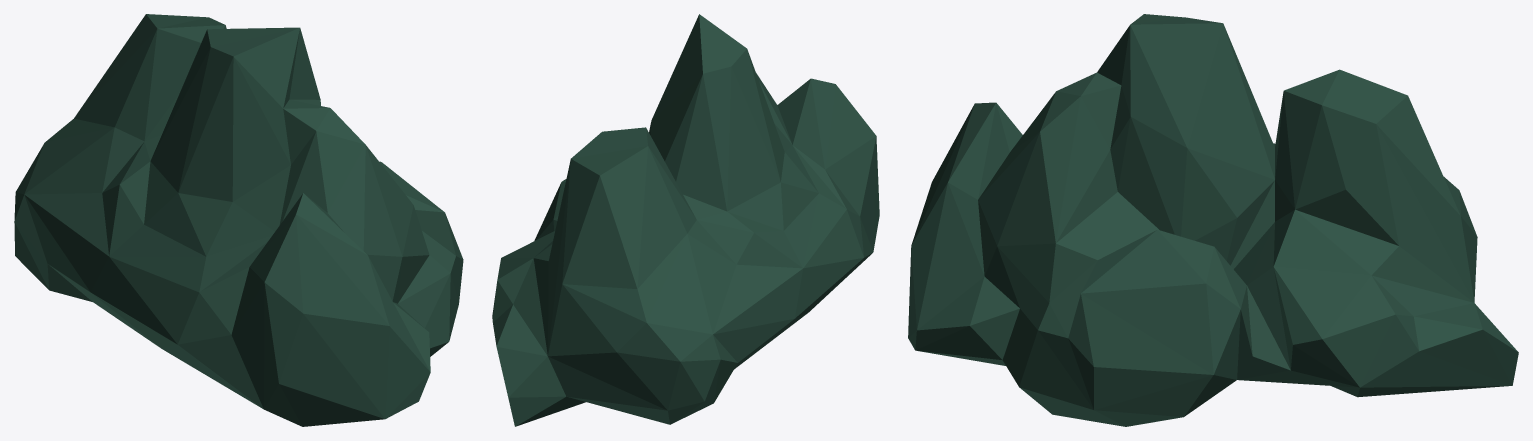
File: SM_large_rock_02.fbx
3 renders of one model, left to right at view 1: azimuth 30°, elevation 25°; view 2: azimuth 150°, elevation 25°; view 3: azimuth 270°, elevation 25°, orthographic. The views are drawn at different scales.
Visible parts, largest first — view 1: large_rock_02; view 2: large_rock_02; view 3: large_rock_02.
Boxes of the visible parts, x1=… form: large_rock_02: x1=14, y1=14, x2=463, y2=426; large_rock_02: x1=492, y1=14, x2=879, y2=426; large_rock_02: x1=908, y1=14, x2=1518, y2=426.
Size of the model in its own units: 58.74 by 62.34 by 97.46.
